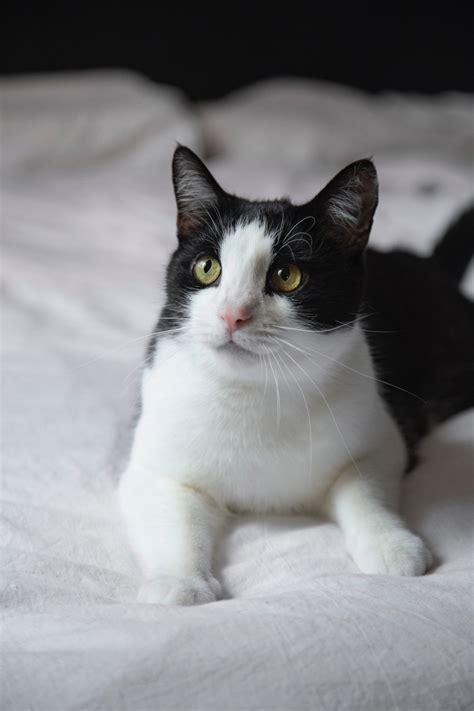cat: (119, 143, 474, 608)
